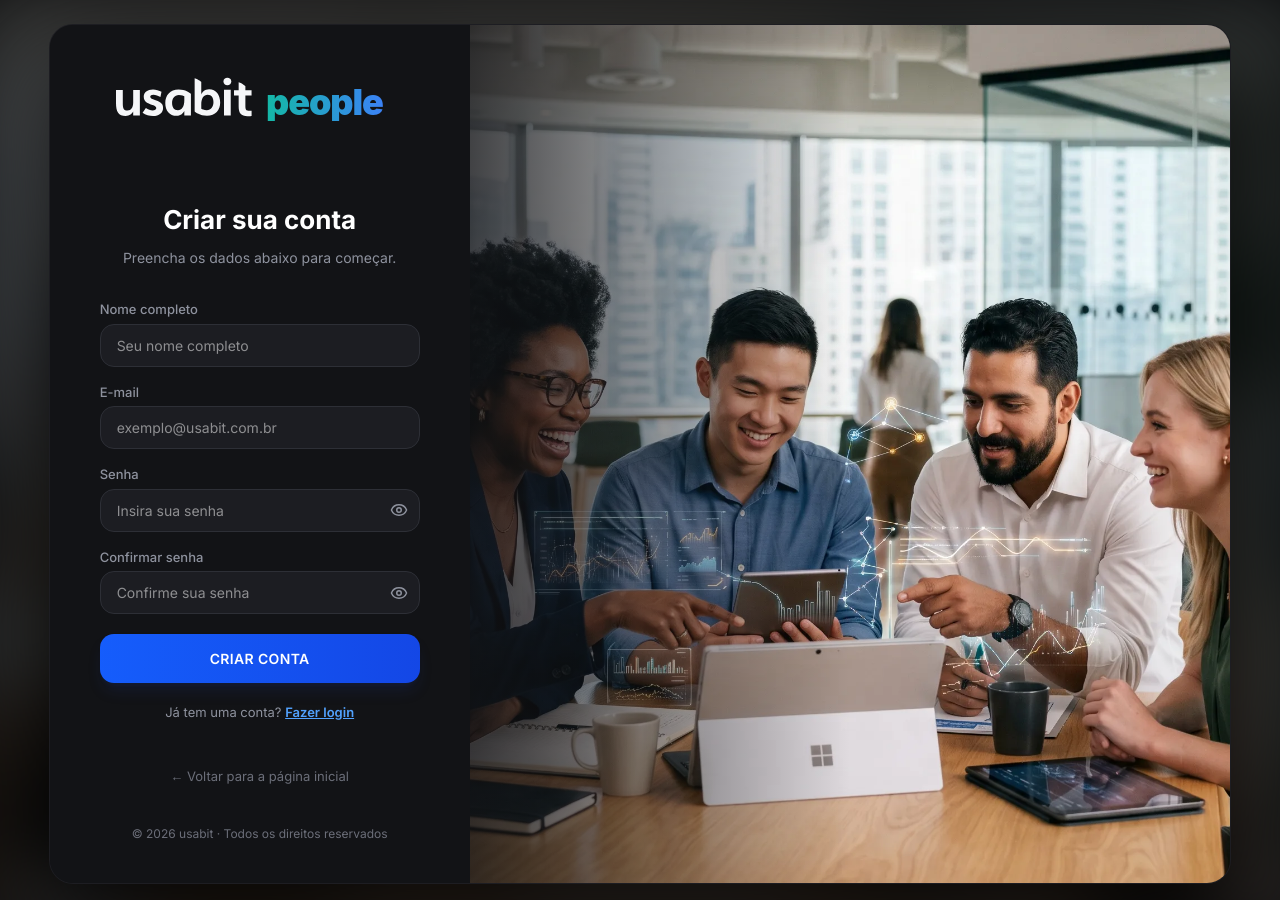
Scenario: Register › mostra erro do signUp
Type "Test User" into the field labelled "Nome completo" at (260, 345), box [100,324,420,366]
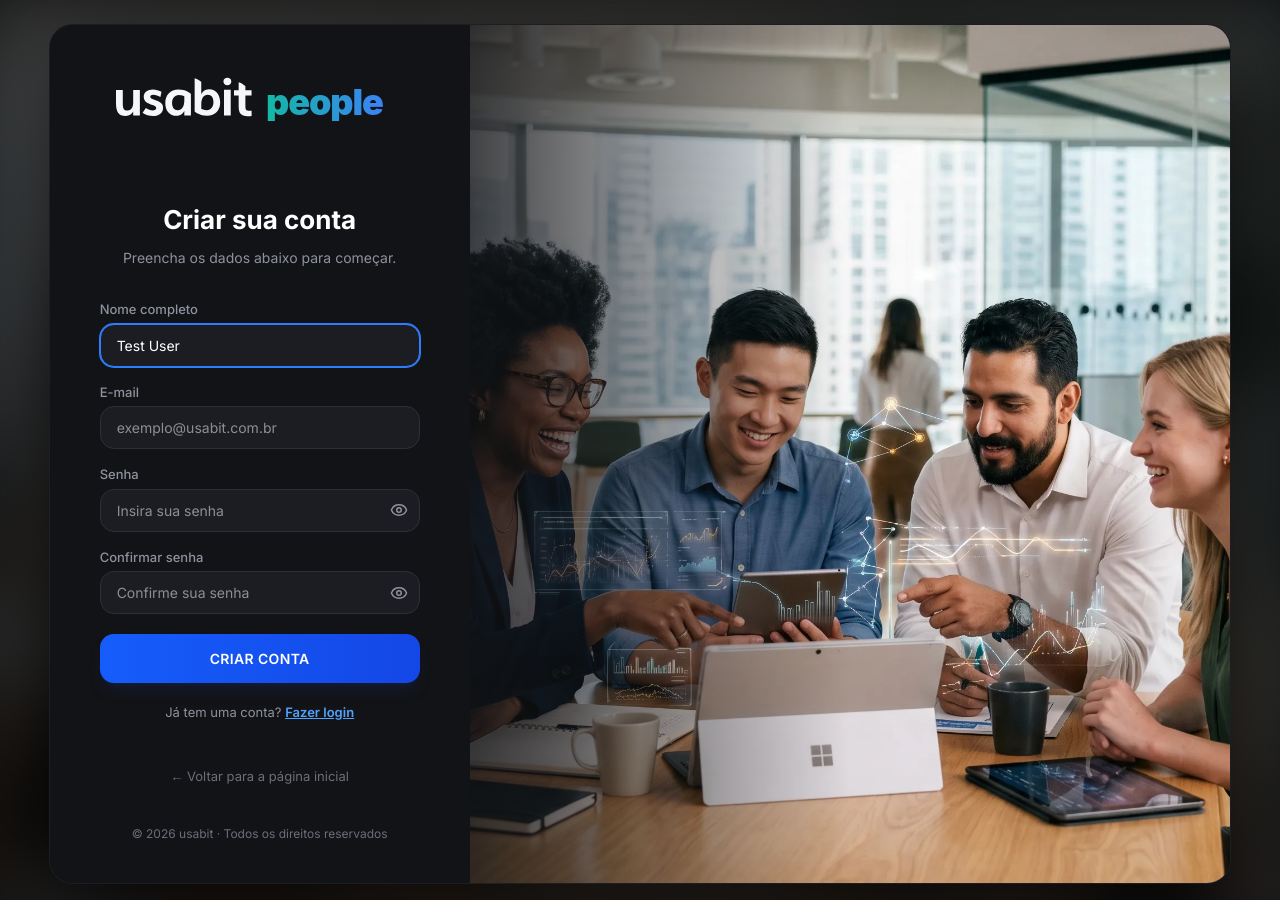
Type "existing@test.com" into the field labelled "E-mail" at (260, 428), box [100,406,420,449]
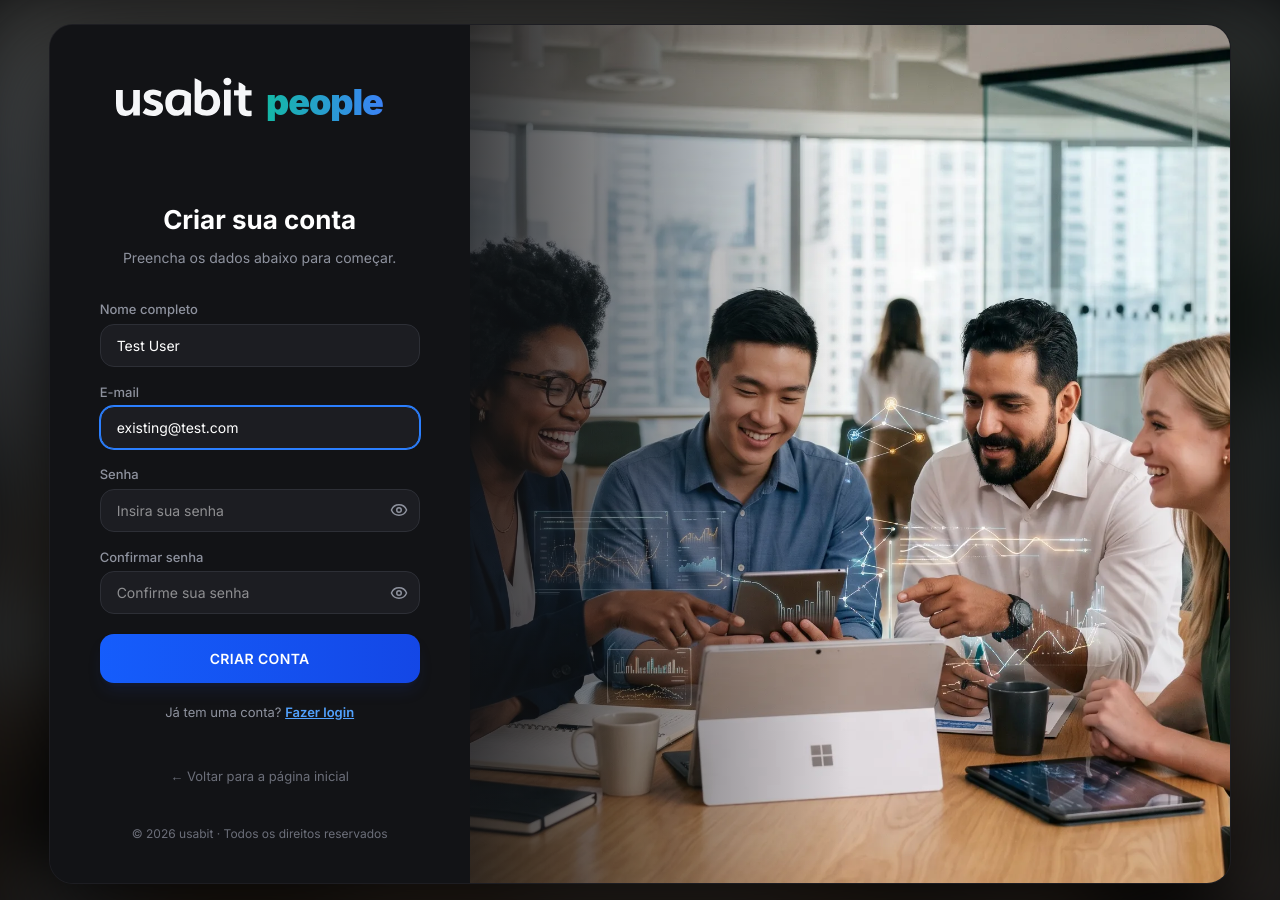
Type "123456" into the password field labelled "Senha" at (260, 510), box [100,488,420,532]
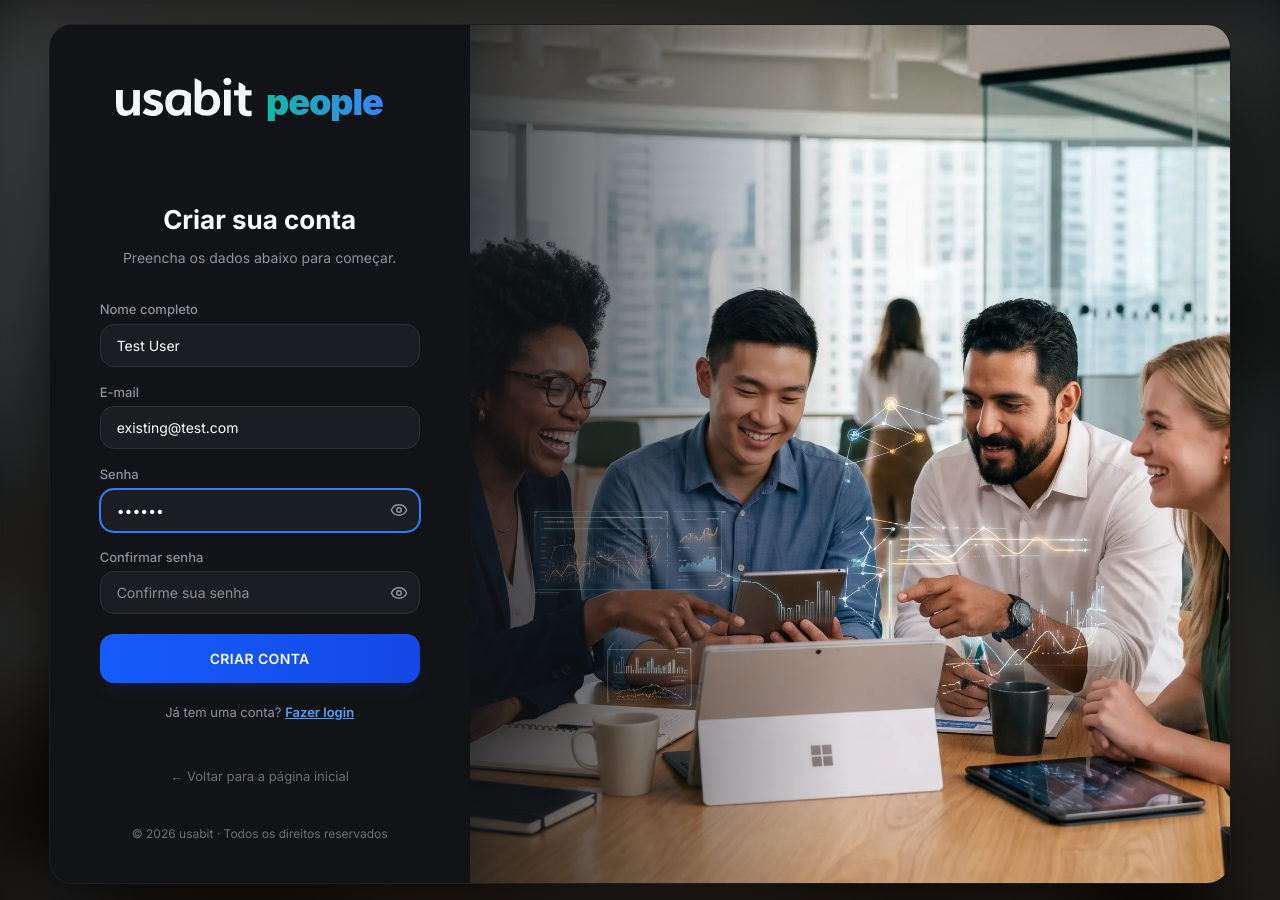
Type "123456" into the password field labelled "Confirmar senha" at (260, 592), box [100,571,420,614]
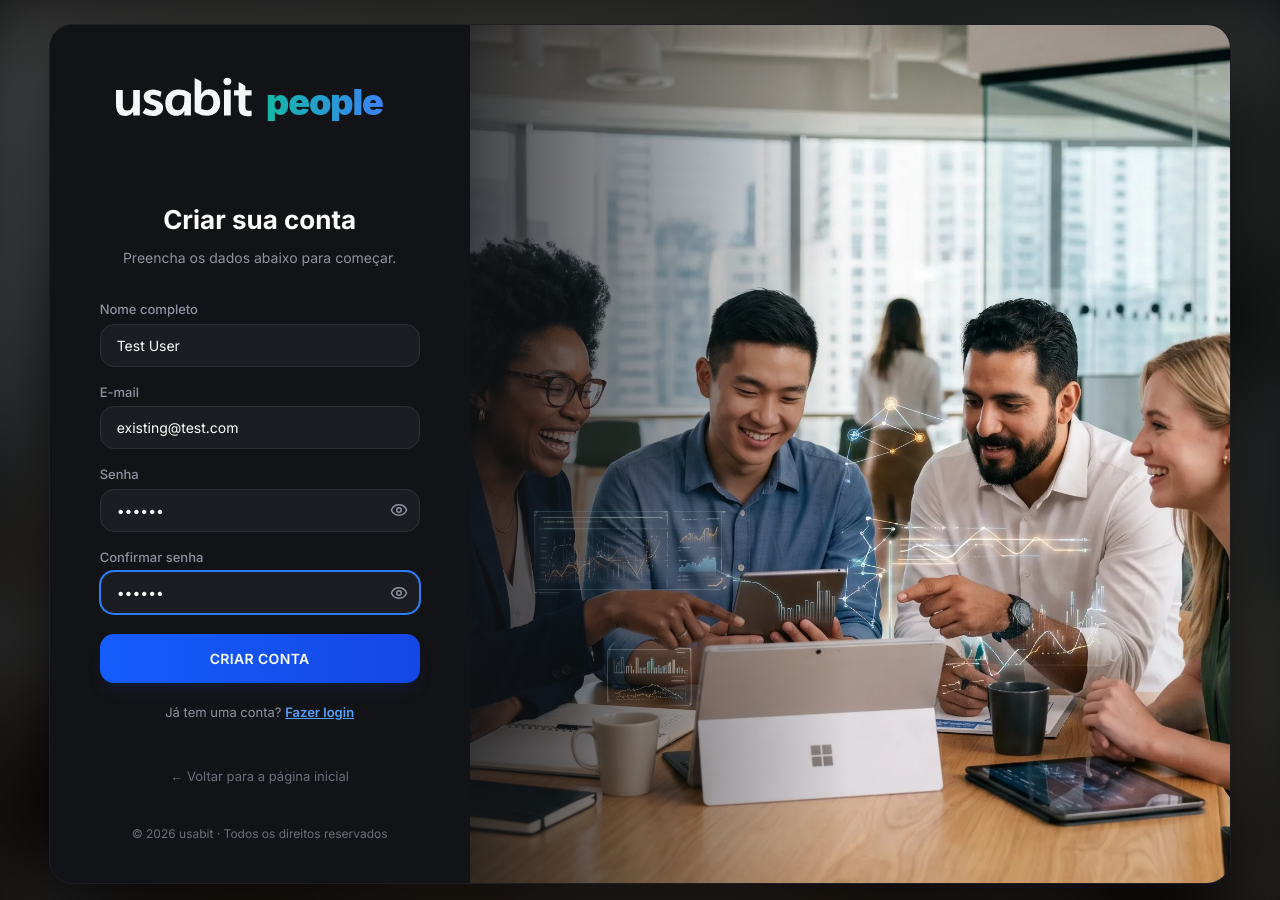
Click the button "CRIAR CONTA" at (260, 658), box [100,634,420,683]
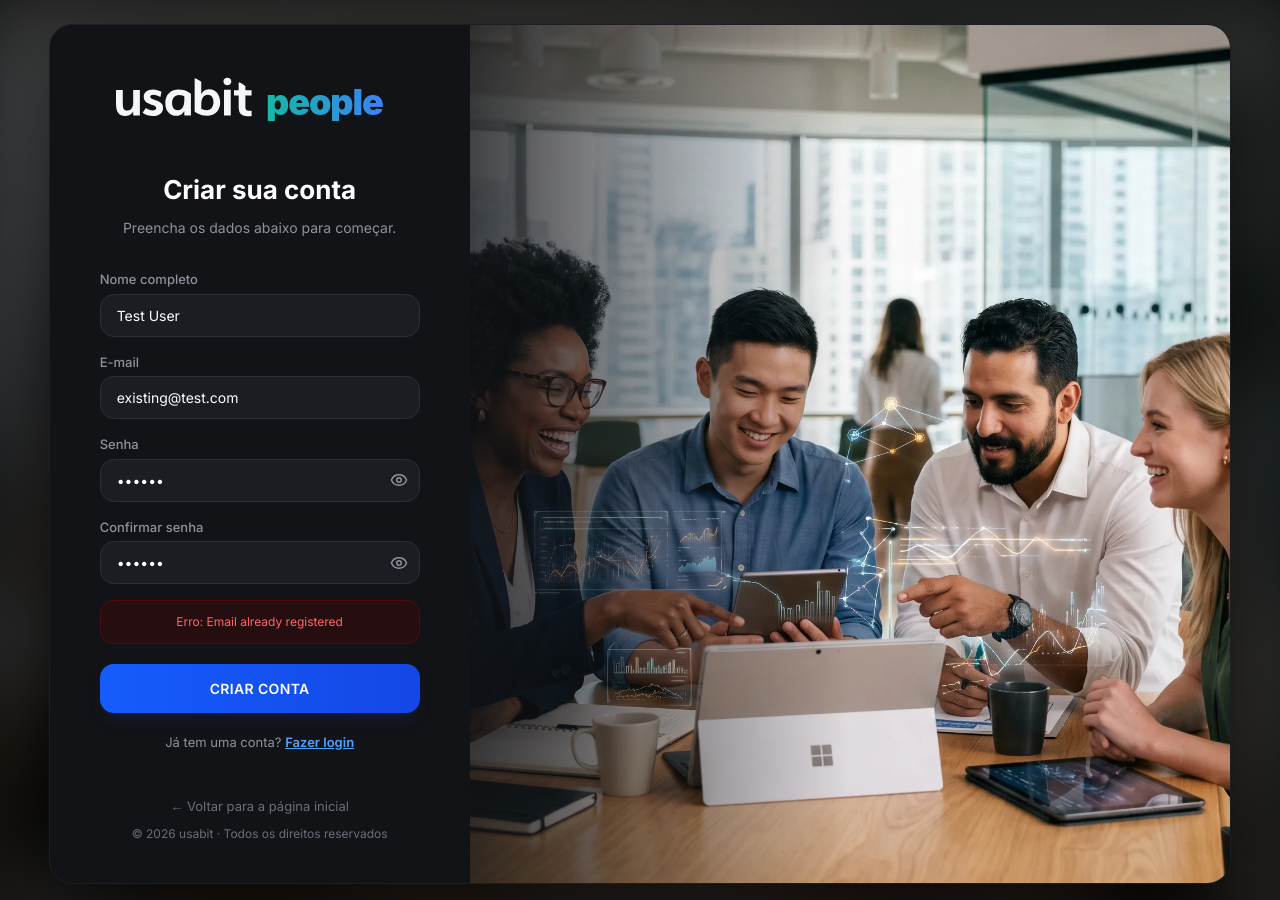
Expected: the text "Erro: Email already registered" is shown, [100,600,420,644]
